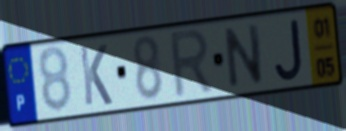8: (36, 45, 77, 118), (130, 33, 164, 105)
J: (272, 17, 305, 84)
K: (77, 42, 115, 108)
N: (223, 21, 266, 92)
R: (168, 26, 217, 102)
